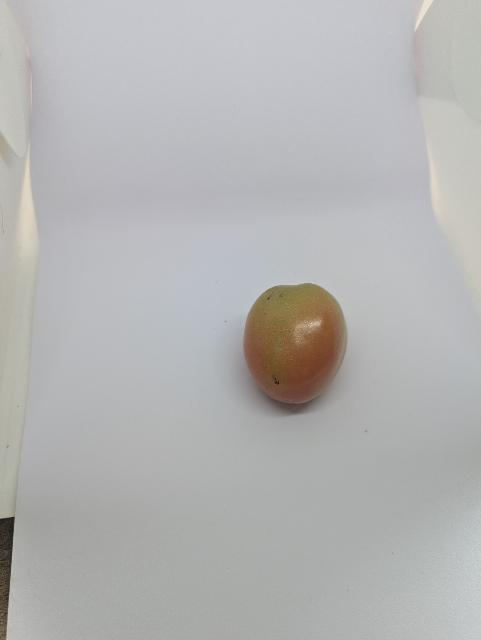turning: (236, 278, 352, 412)
